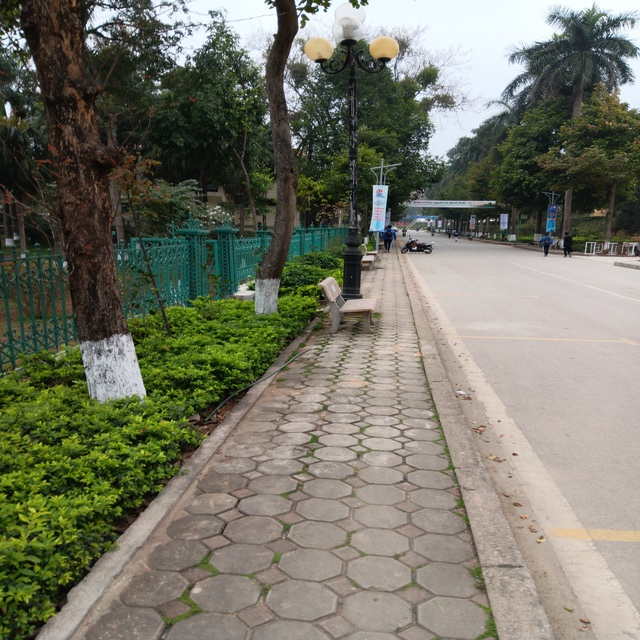gheda: (314, 272, 385, 341), (356, 240, 383, 268)
